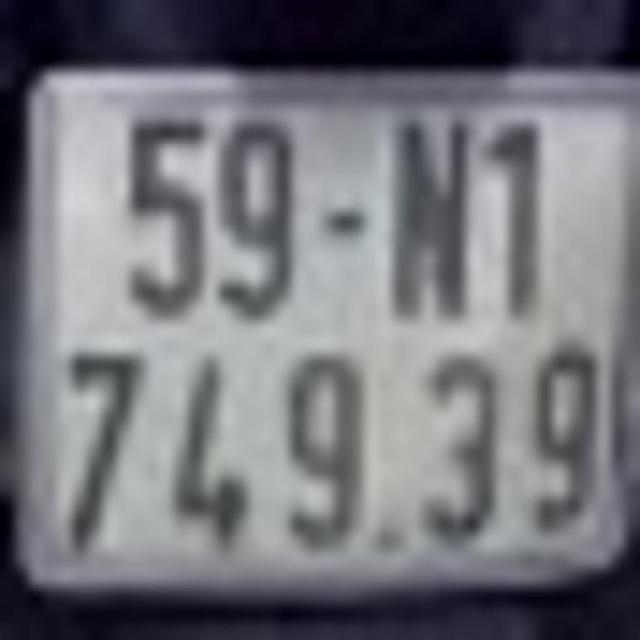1: (482, 120, 536, 316)
3: (424, 354, 492, 540)
4: (170, 348, 249, 556)
5: (129, 116, 208, 316)
7: (66, 348, 140, 559)
9: (216, 121, 292, 321), (284, 354, 362, 545), (536, 348, 597, 535)
N: (392, 118, 468, 316)
